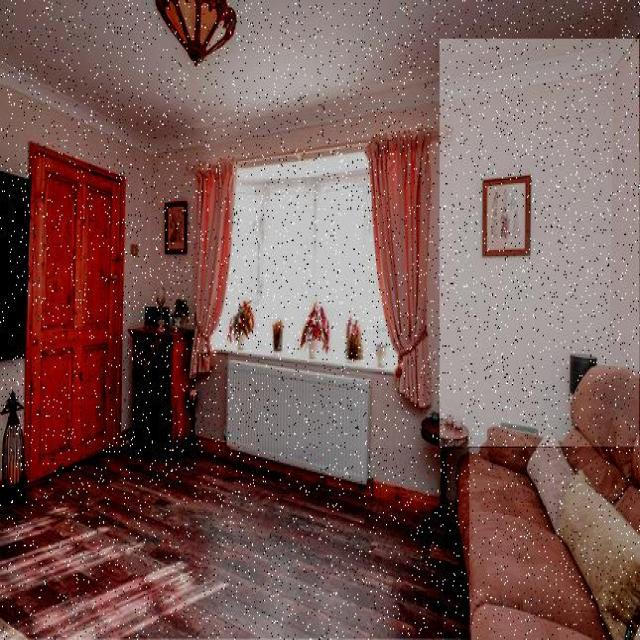Wall: (0, 86, 572, 448), (0, 0, 640, 152), (0, 448, 469, 638), (440, 40, 640, 447), (371, 377, 439, 494), (197, 354, 228, 441)
